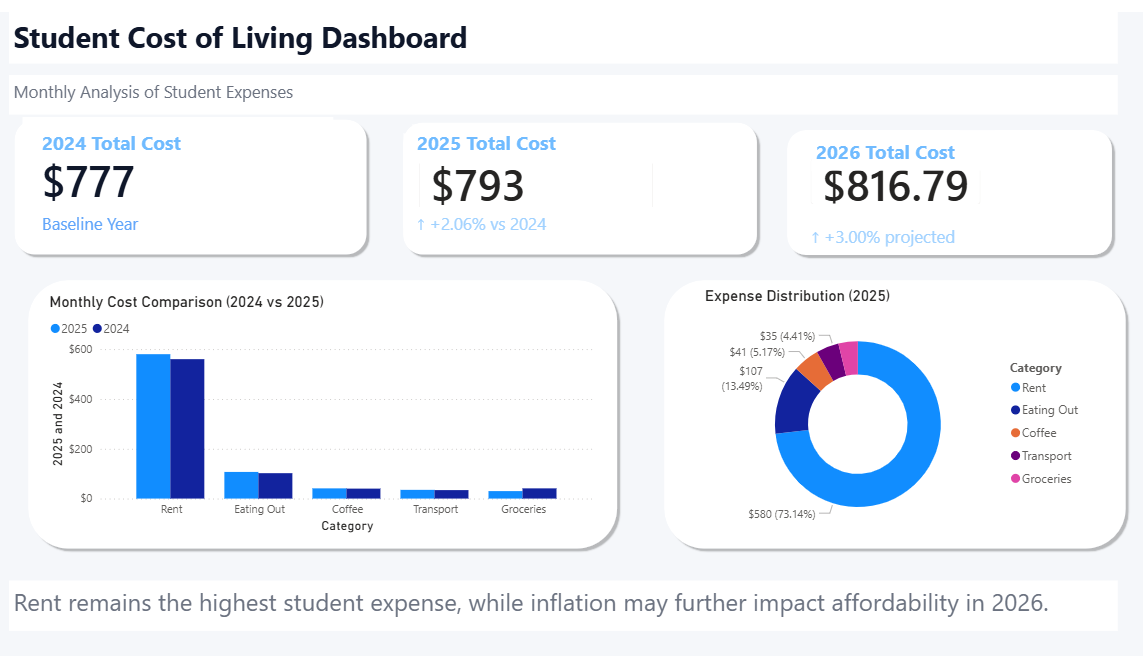

What the dashboard file says about the page in this screenshot:
{"tool":"powerbi","page":{"name":"Page 1","canvas":[1280,720],"ordinal":0},"visuals":[{"type":"shape","box":[5,625,1245,70],"z":1000},{"type":"shape","box":[868.9,124.4,373.3,151.1],"z":2000},{"type":"shape","box":[441.1,116.7,405.6,158.9],"z":3000},{"type":"shape","box":[10,113.3,403.3,162.2],"z":4000},{"type":"shape","box":[731.9,291.2,525.4,310.7],"z":5000},{"type":"shape","box":[24.4,291.2,666.9,310.7],"z":6000},{"type":"cardVisual","fields":{"Data":["Sum(Sheet2.2024 Price)"]},"box":[24.4,116.7,345.6,117.8],"z":7000},{"type":"cardVisual","fields":{"Data":["Sum(Sheet2.2025 Price)"]},"box":[448.9,134.4,294.4,105.6],"z":8000},{"type":"cardVisual","fields":{"Data":["Sum(Sheet2.2026 Price)"]},"box":[883.3,144.4,223.3,86.7],"z":9000},{"type":"clusteredColumnChart","title":"Monthly Cost Comparison (2024 vs 2025)","fields":{"Category":["Sheet2.Category"],"Y":["Sum(Sheet2.2025 Price)","Sum(Sheet2.2024 Price)"]},"box":[50.4,312.3,614.8,271.6],"z":10000},{"type":"donutChart","title":"Expense Distribution (2025)","fields":{"Category":["Sheet2.Category"],"Y":["Sum(Sheet2.2025 Price)"]},"box":[778,305,434,286],"z":11000},{"type":"textbox","box":[10,0,1232.1,57.1],"z":12000},{"type":"textbox","box":[10,632,1232,56],"z":13000},{"type":"textbox","box":[10,70,1232.3,43.8],"z":14000},{"type":"textbox","box":[42.2,124.4,300,43.3],"z":15000},{"type":"textbox","box":[458.9,125.6,301.1,43.3],"z":16000},{"type":"textbox","box":[901.1,134.4,300,41.1],"z":17000},{"type":"shape","box":[10,0,1241.4,64.3],"z":18000},{"type":"textbox","box":[42.2,216.7,353.3,35.6],"z":19000},{"type":"textbox","box":[458.9,216.7,353.3,35.6],"z":20000},{"type":"textbox","box":[896.5,212.9,330,52.4],"z":20001}]}

Visuals, with their boxes in screenshot pixels (x1, y1, x2, y2), scaled from the page's 1280x720 canvas onto the 1143x656 screenshot:
shape: [x1=4, y1=569, x2=1116, y2=633]
shape: [x1=776, y1=113, x2=1109, y2=251]
shape: [x1=394, y1=106, x2=756, y2=251]
shape: [x1=9, y1=103, x2=369, y2=251]
shape: [x1=654, y1=265, x2=1123, y2=548]
shape: [x1=22, y1=265, x2=617, y2=548]
cardVisual - Sum(Sheet2.2024 Price): [x1=22, y1=106, x2=330, y2=214]
cardVisual - Sum(Sheet2.2025 Price): [x1=401, y1=122, x2=664, y2=219]
cardVisual - Sum(Sheet2.2026 Price): [x1=789, y1=132, x2=988, y2=211]
"Monthly Cost Comparison (2024 vs 2025)" clusteredColumnChart: [x1=45, y1=285, x2=594, y2=532]
"Expense Distribution (2025)" donutChart: [x1=695, y1=278, x2=1082, y2=538]
textbox: [x1=9, y1=0, x2=1109, y2=52]
textbox: [x1=9, y1=576, x2=1109, y2=627]
textbox: [x1=9, y1=64, x2=1109, y2=104]
textbox: [x1=38, y1=113, x2=306, y2=153]
textbox: [x1=410, y1=114, x2=679, y2=154]
textbox: [x1=805, y1=122, x2=1073, y2=160]
shape: [x1=9, y1=0, x2=1117, y2=59]
textbox: [x1=38, y1=197, x2=353, y2=230]
textbox: [x1=410, y1=197, x2=725, y2=230]
textbox: [x1=801, y1=194, x2=1095, y2=242]
